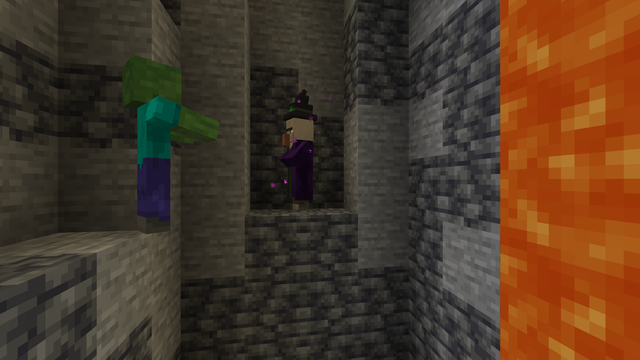sorcieres: (283, 113, 313, 210)
zombies: (109, 59, 185, 235)
